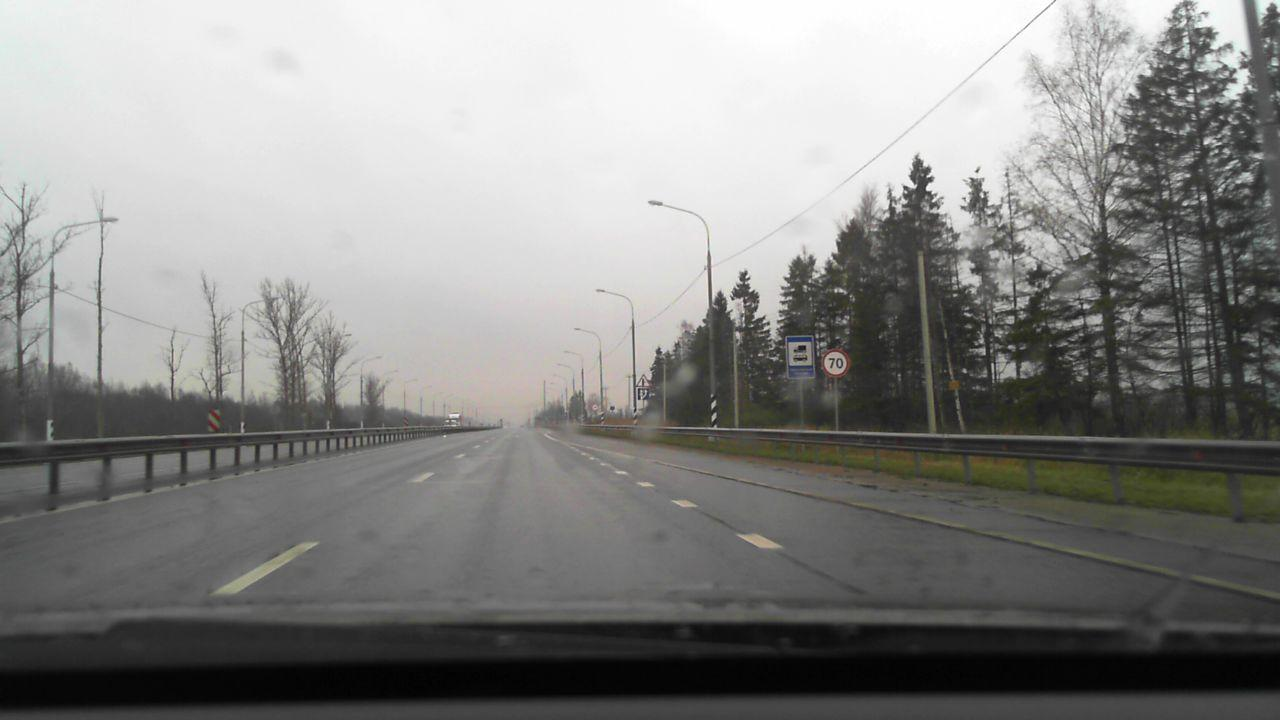2_3_2: (635, 374, 650, 386)
3_24: (823, 348, 850, 377)
5_15_3: (637, 388, 651, 401)
7_14_2: (785, 335, 816, 379)
